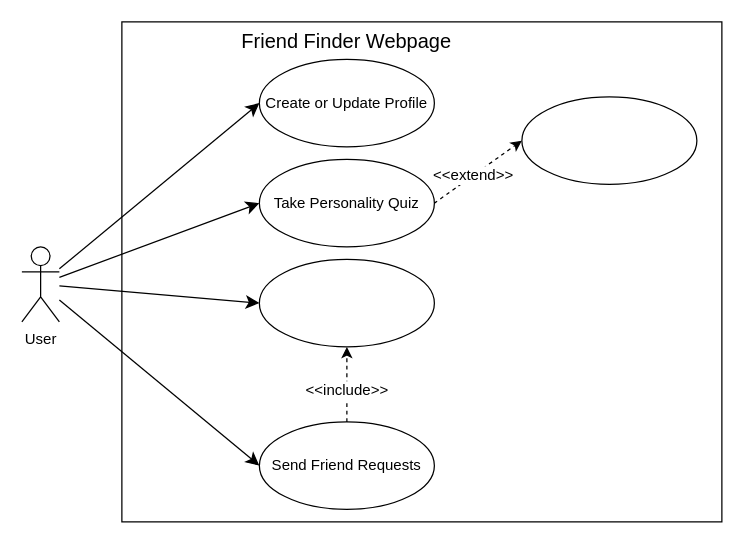
Image size: 744x544. Some labels were removed from this diagram. The box of each missing label's shape, as (x1, y1, x2, y2) in pixels:
Retake Quiz: (521, 96, 697, 184)
View Discovery Page: (258, 258, 434, 347)
